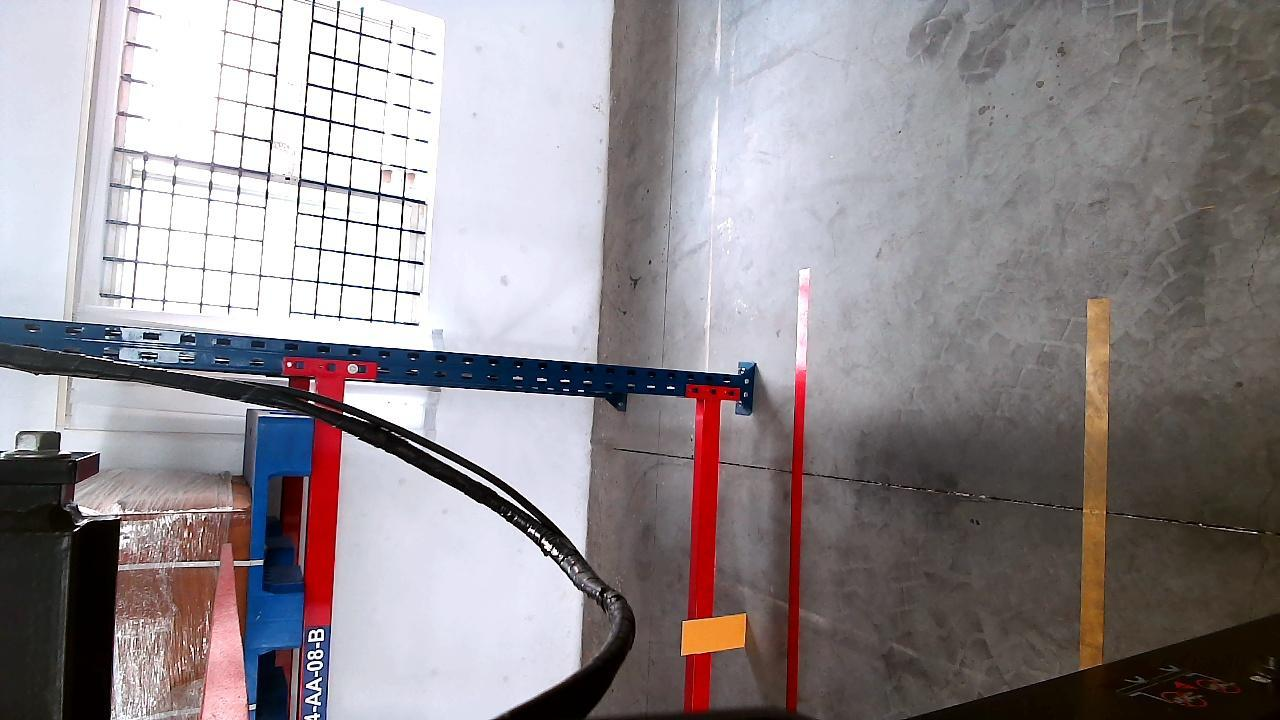red_line: (784, 268, 808, 707)
yellow_line: (1080, 292, 1111, 668)
